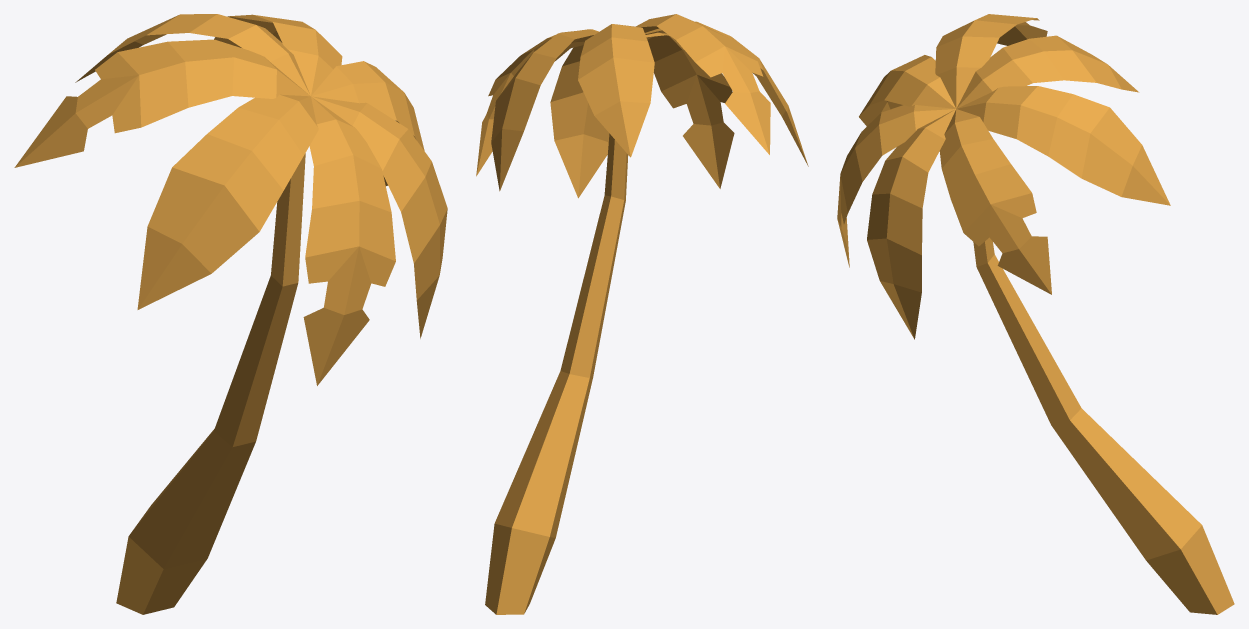
Rendered from palm-angle.fbx.
The picture shows the model from 3 angles, left to right: view 1: azimuth 30°, elevation 25°; view 2: azimuth 150°, elevation 25°; view 3: azimuth 270°, elevation 25°; orthographic projection. The views are drawn at different scales.
Parts seen in each view (by area): view 1: palm-angle; view 2: palm-angle; view 3: palm-angle.
Boxes of the visible parts, box(x1,y1,x2,y2) form: palm-angle: box(14, 14, 447, 614); palm-angle: box(476, 14, 808, 614); palm-angle: box(837, 14, 1234, 614).
Bounding box in the file's own units: 2.44 × 4.15 × 2.75.
